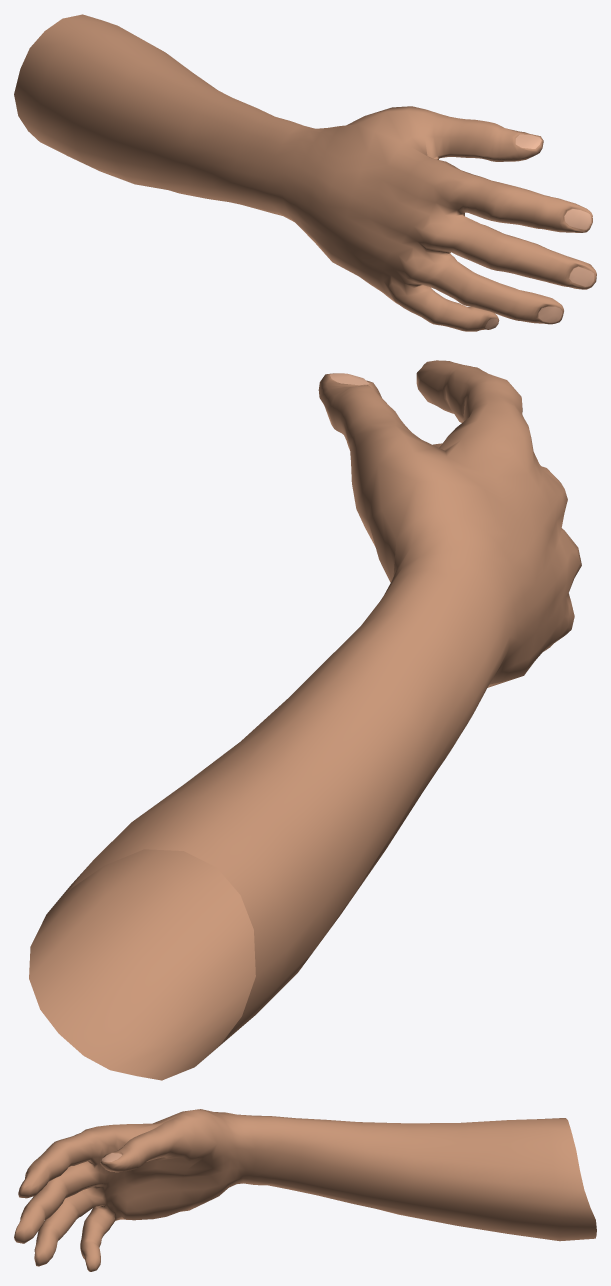
3 renders of one model, top to bottom at view 1: azimuth 30°, elevation 25°; view 2: azimuth 150°, elevation 25°; view 3: azimuth 270°, elevation 25°, orthographic. The views are drawn at different scales.
Visible parts, largest first — view 1: model_00-base.001; view 2: model_00-base.001; view 3: model_00-base.001.
Boxes of the visible parts, x1,y1,x2,y2 form: model_00-base.001: (14, 14, 596, 331); model_00-base.001: (29, 360, 581, 1080); model_00-base.001: (14, 1109, 596, 1271).
Bounding box in the file's own units: 0.1481 × 0.1133 × 0.3847.
